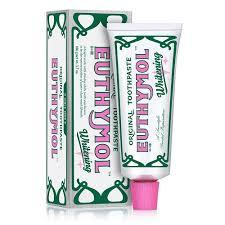toothpaste: (98, 18, 182, 218)
